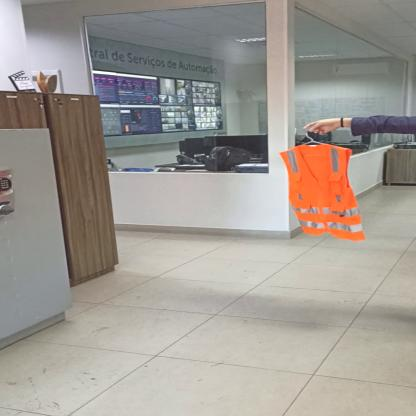colete: (277, 141, 369, 241)
